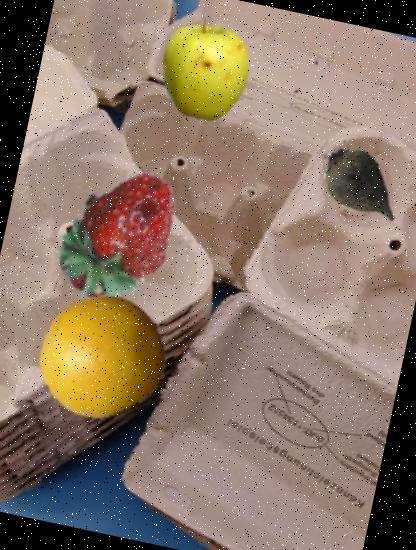Apple: (142, 6, 268, 133)
Beetroot: (301, 128, 416, 244)
Grapefruit: (24, 280, 178, 433)
Strawberry: (33, 150, 209, 326)
